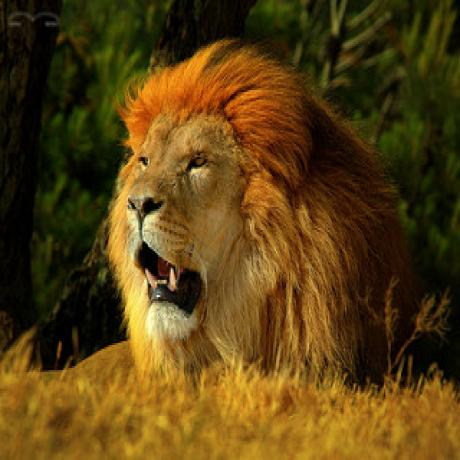Lion: (109, 40, 419, 388)
